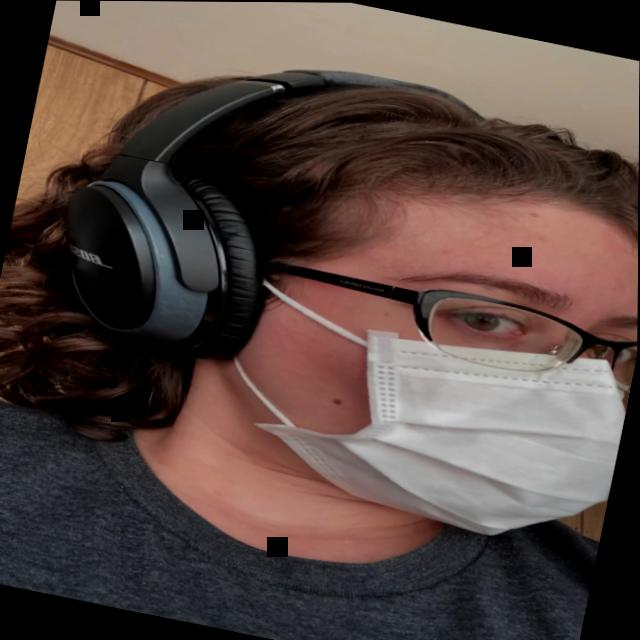Mask: (216, 144, 639, 556)
